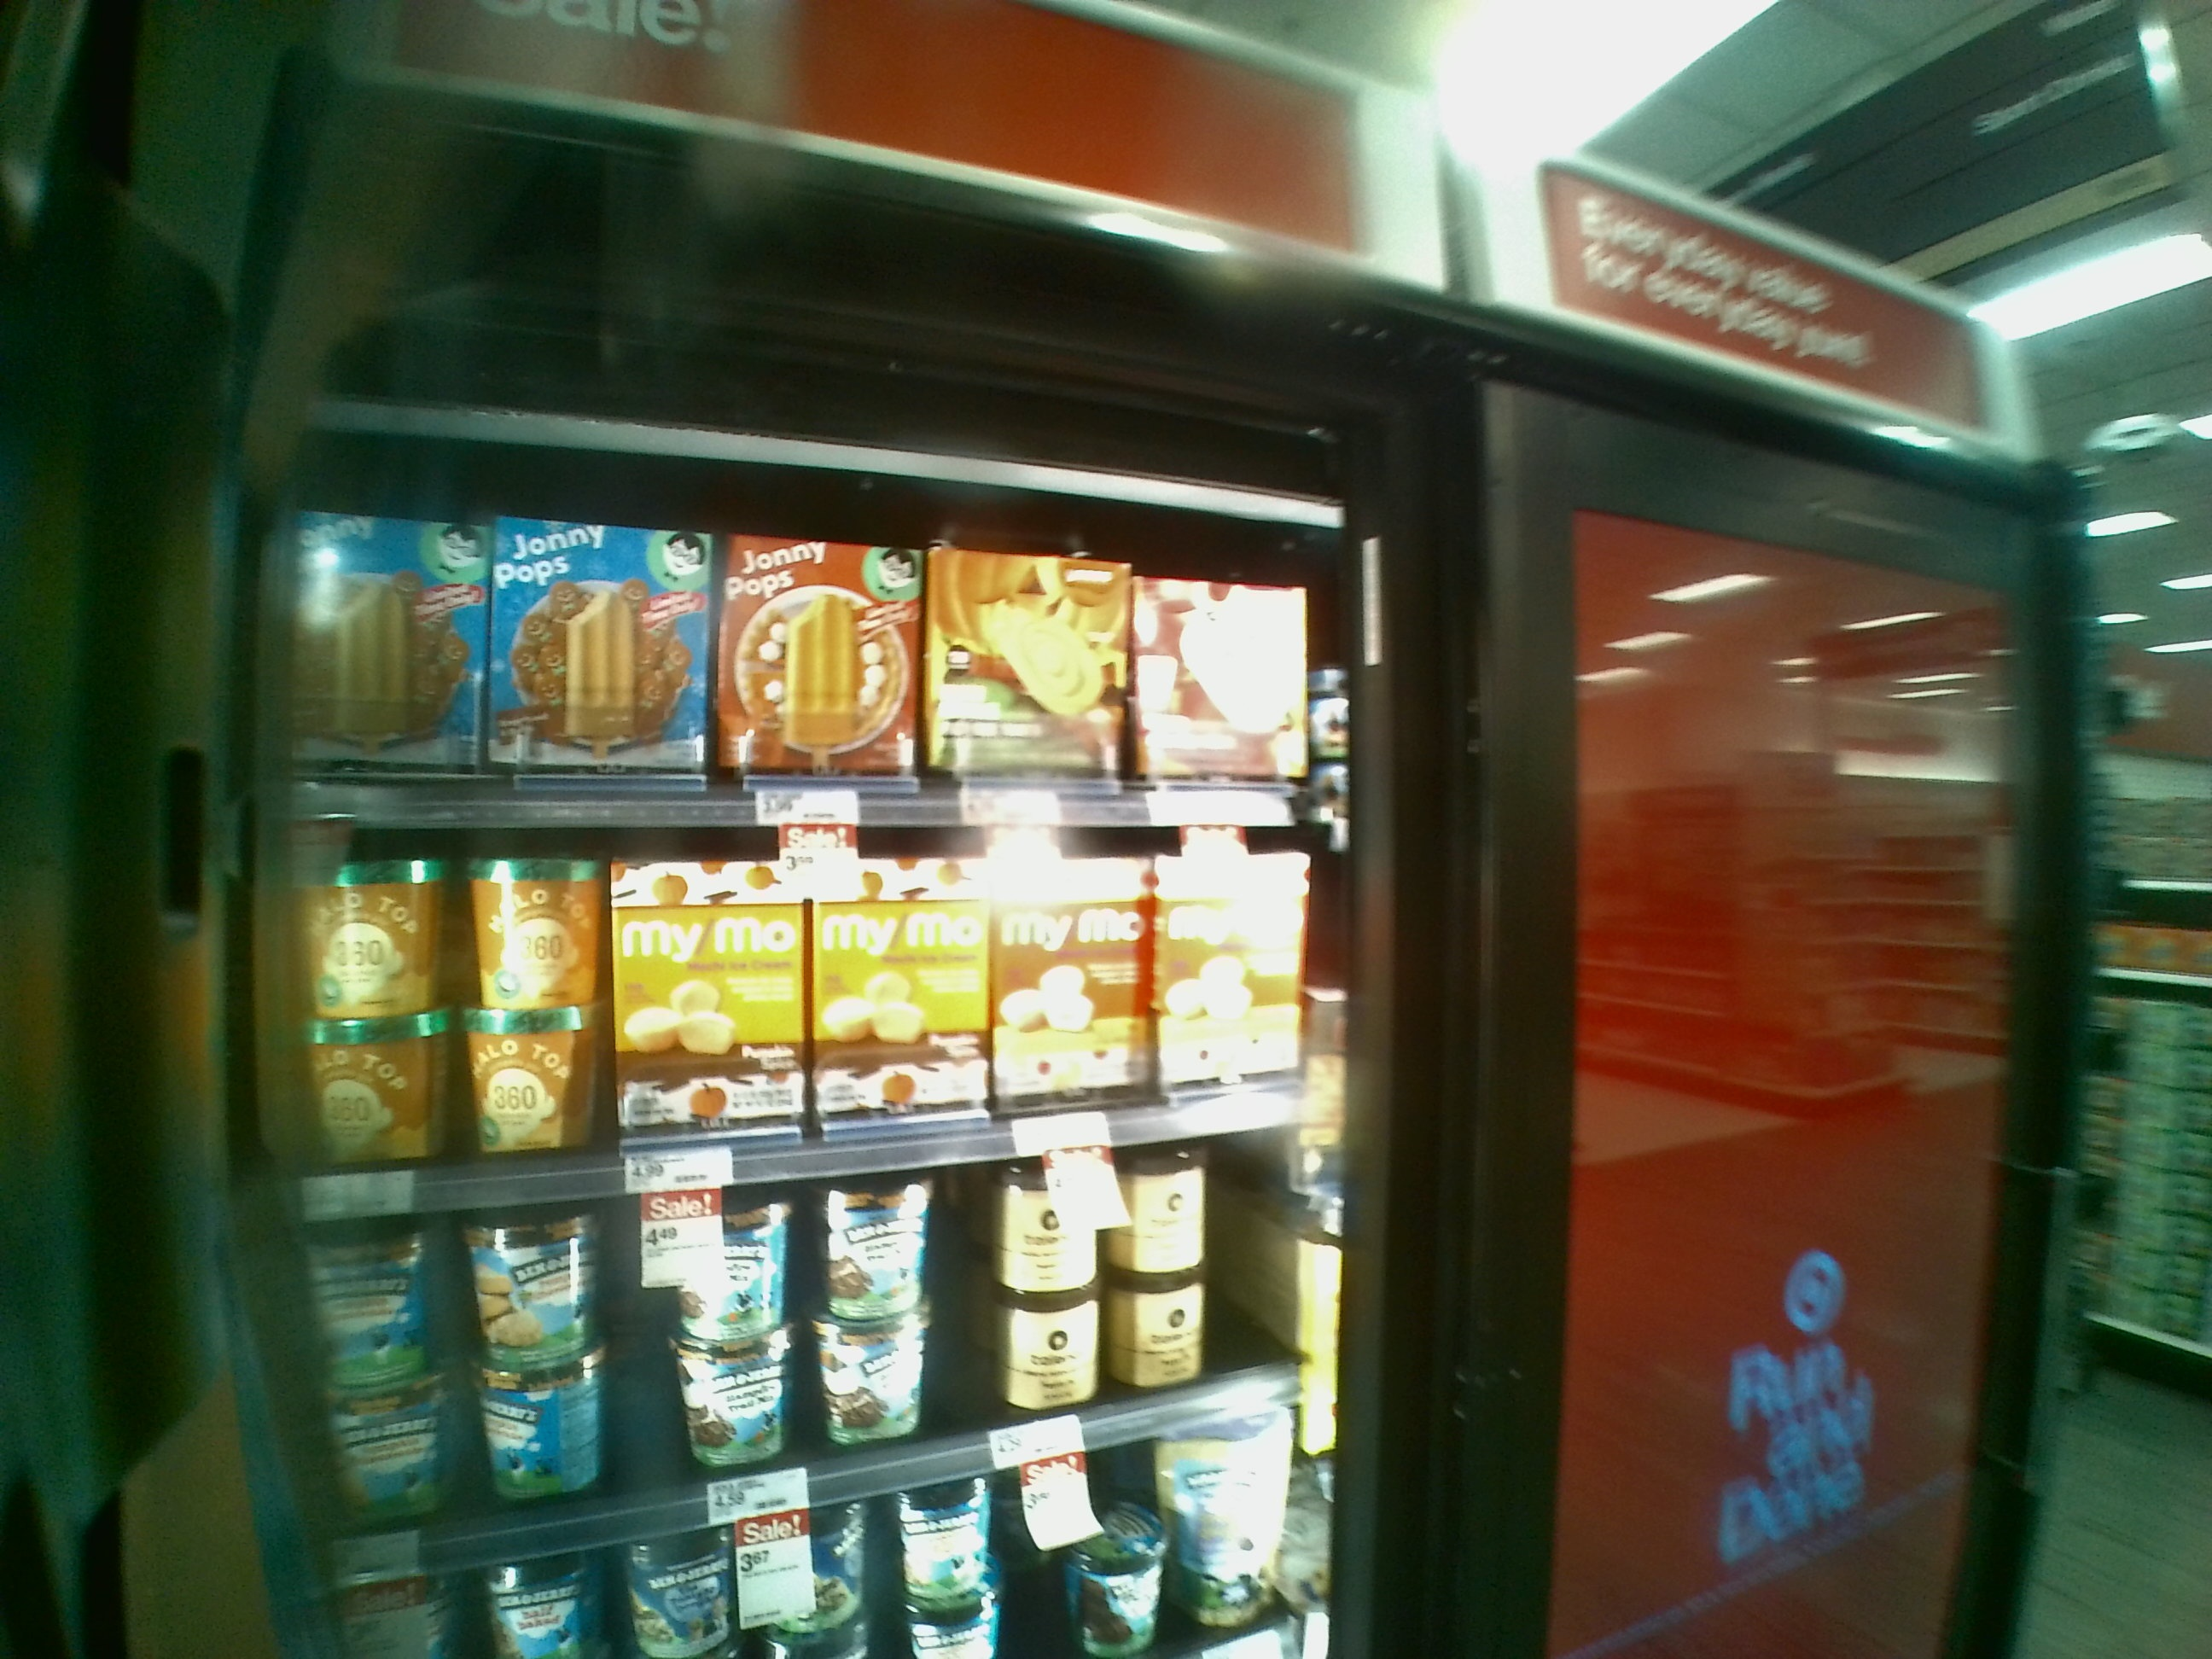shelf: (254, 453, 1369, 835), (247, 812, 1331, 1159), (228, 1180, 1359, 1455)
